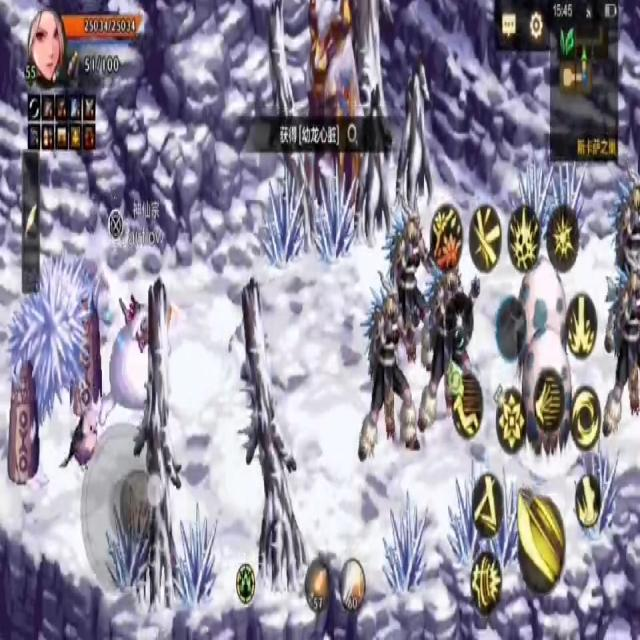player: (100, 274, 164, 429)
